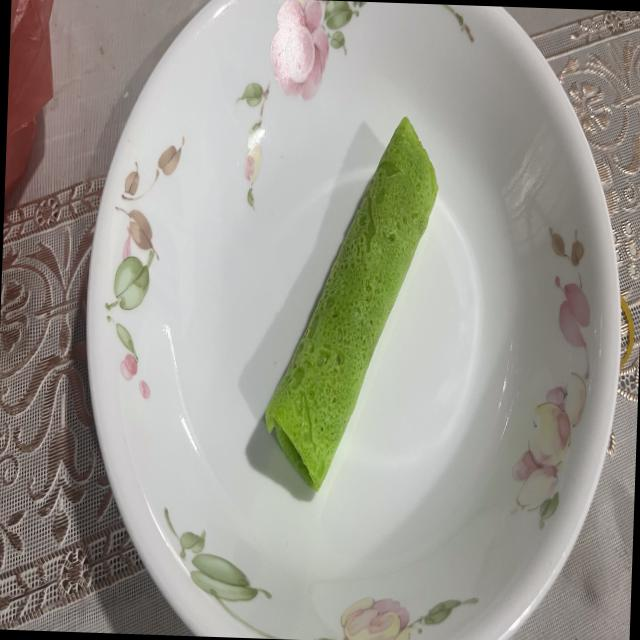Kuih-Ketayap: (265, 116, 437, 489)
